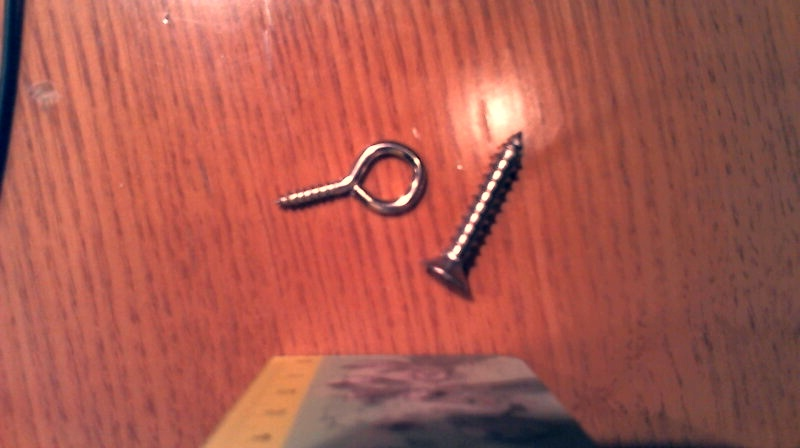O001: (272, 137, 431, 217)
S001: (418, 129, 529, 300)
